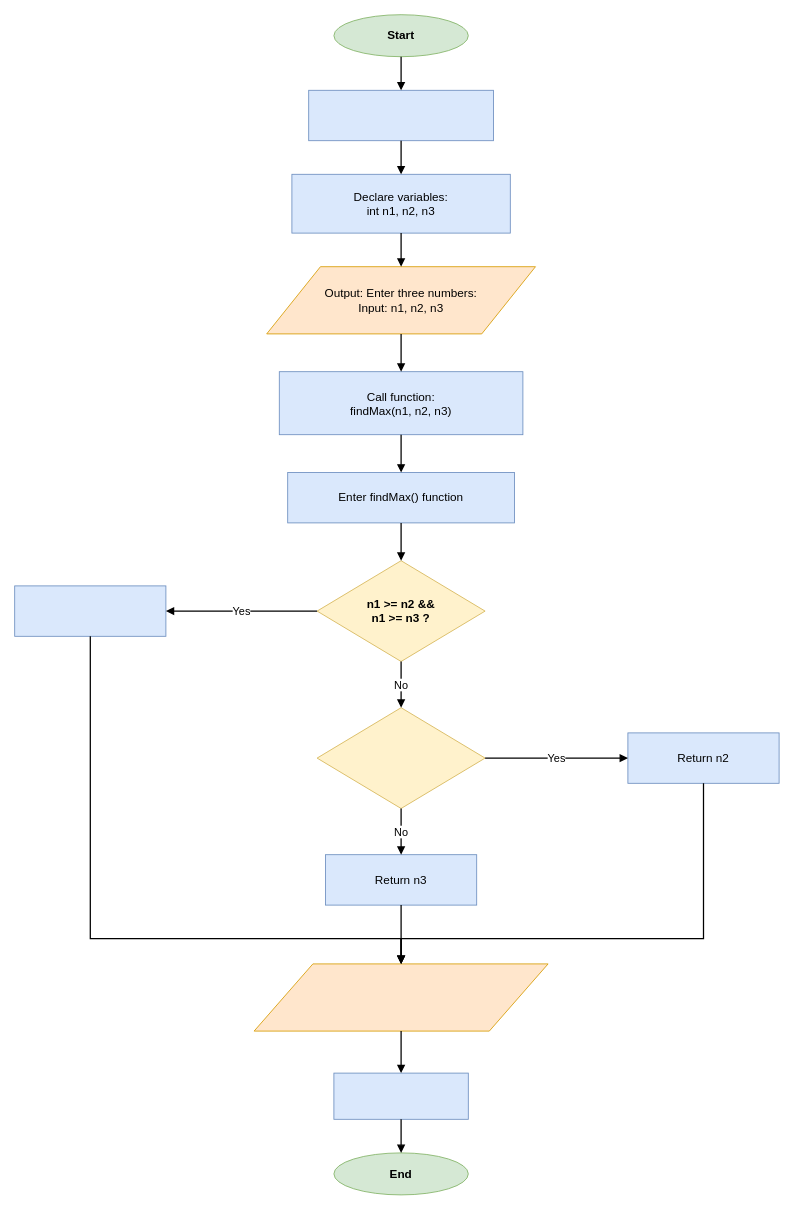
This 794x1210 diagram has some shape labels left out. Here are the shapes that lost their labels. From the top down, the box of each, then its label:
(308, 89, 494, 141): Enter main() function
(14, 585, 166, 636): Return n1
(316, 707, 485, 808): n2 >= n1 && n2 >= n3 ?
(253, 963, 548, 1031): Output: Maximum value: returned value
(333, 1072, 468, 1119): Return 0
